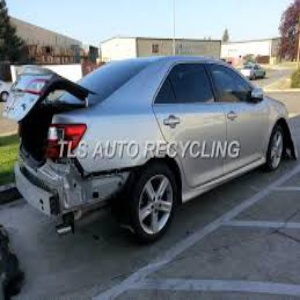bumper: (22, 169, 115, 233)
